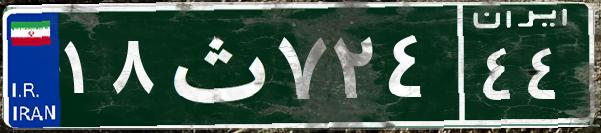1: (57, 26, 110, 107)
2: (330, 28, 385, 110)
4: (385, 28, 445, 110), (475, 38, 525, 113), (525, 38, 570, 115)
7: (273, 28, 330, 110)
8: (110, 28, 158, 105)
ث: (158, 15, 273, 115)
